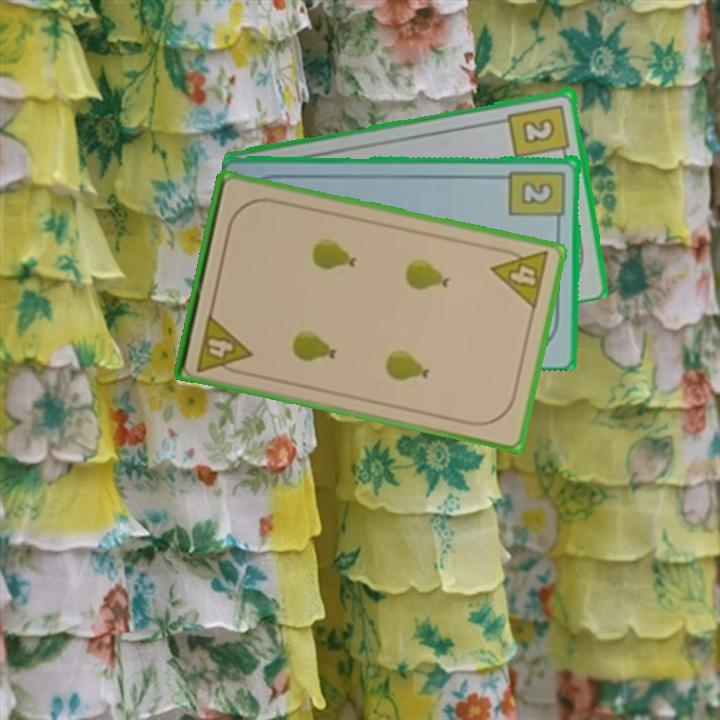2b: (505, 100, 573, 162), (507, 167, 568, 228)
4p: (488, 243, 553, 312), (193, 310, 254, 378)
